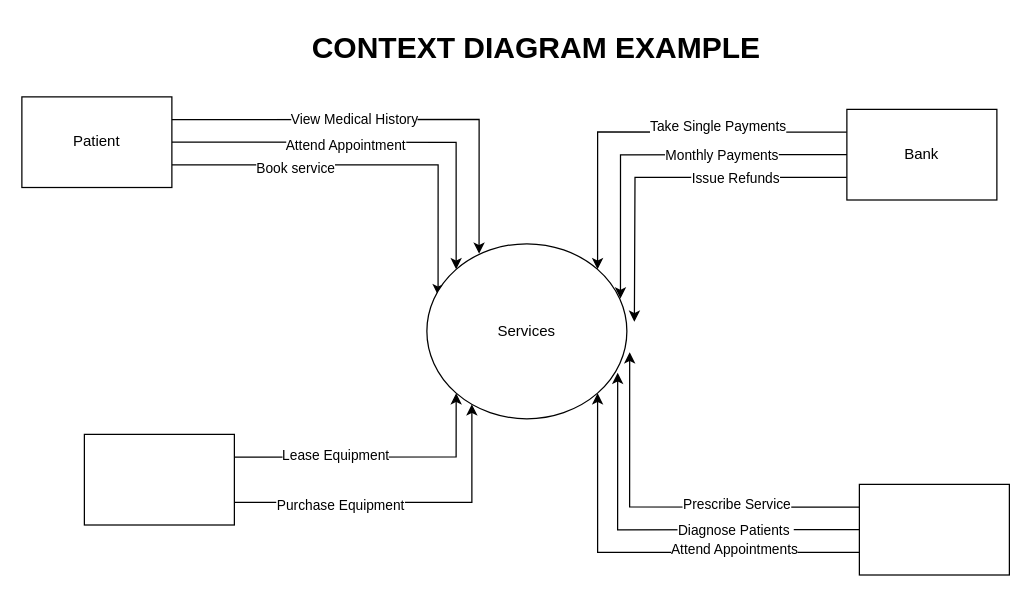
This 1031x596 diagram has some shape labels left out. Each missing label, with the centre of its shape:
Clinician: the point at 933,529
Organisation: the point at 158,479
